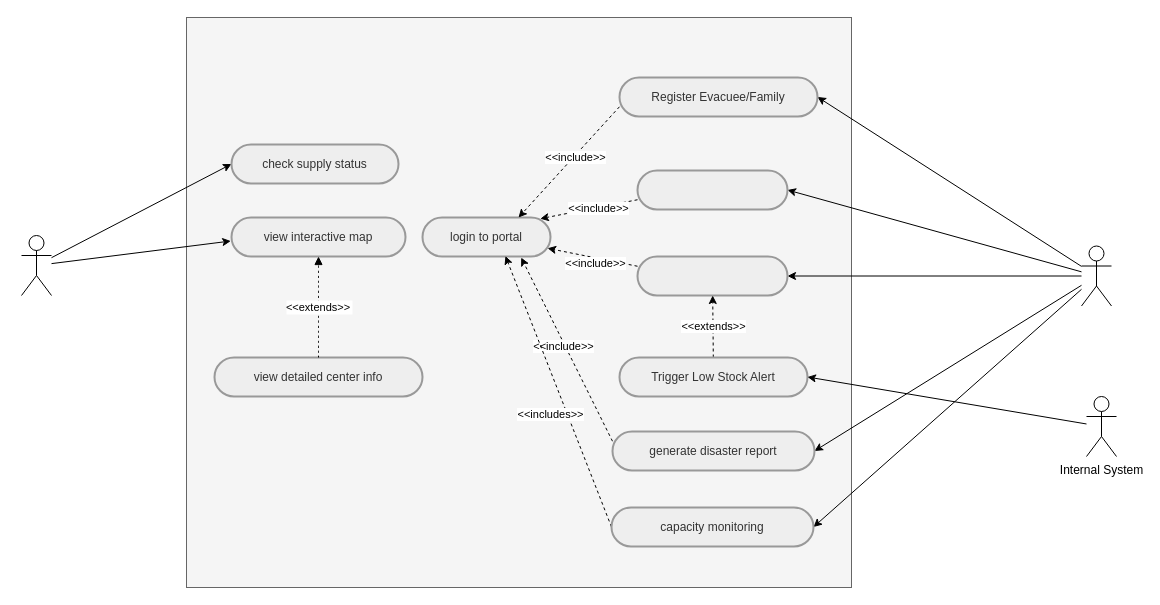
The diagram is 1160 pixels wide and 605 high, and some of its shapes have lost their labels. The shapes that lost their labels are listed below. From the top down, each one's centre as x and y in pixels, then its label:
the point at 712,189: manage inventory
the point at 36,265: Civilian
the point at 712,275: log aid distribution
the point at 1096,275: LGU Staff/Admin
